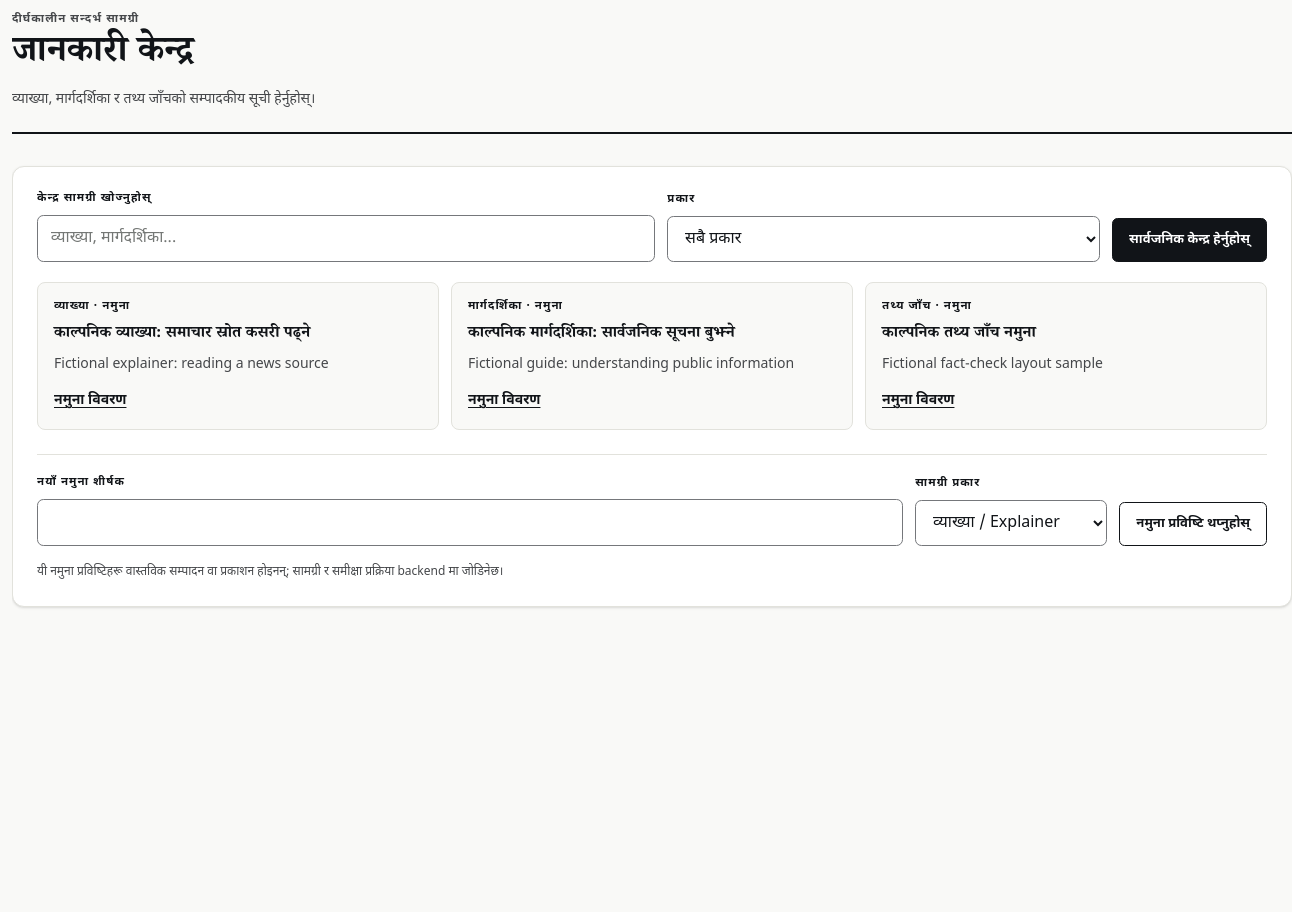
Test: newsroom admin modules › adds a hub item to the current screen only
Type "काल्पनिक थपिएको मार्गदर्शिका" into the field labelled "नयाँ नमुना शीर्षक" at (470, 523), box top-left (37, 499), bottom-right (903, 546)
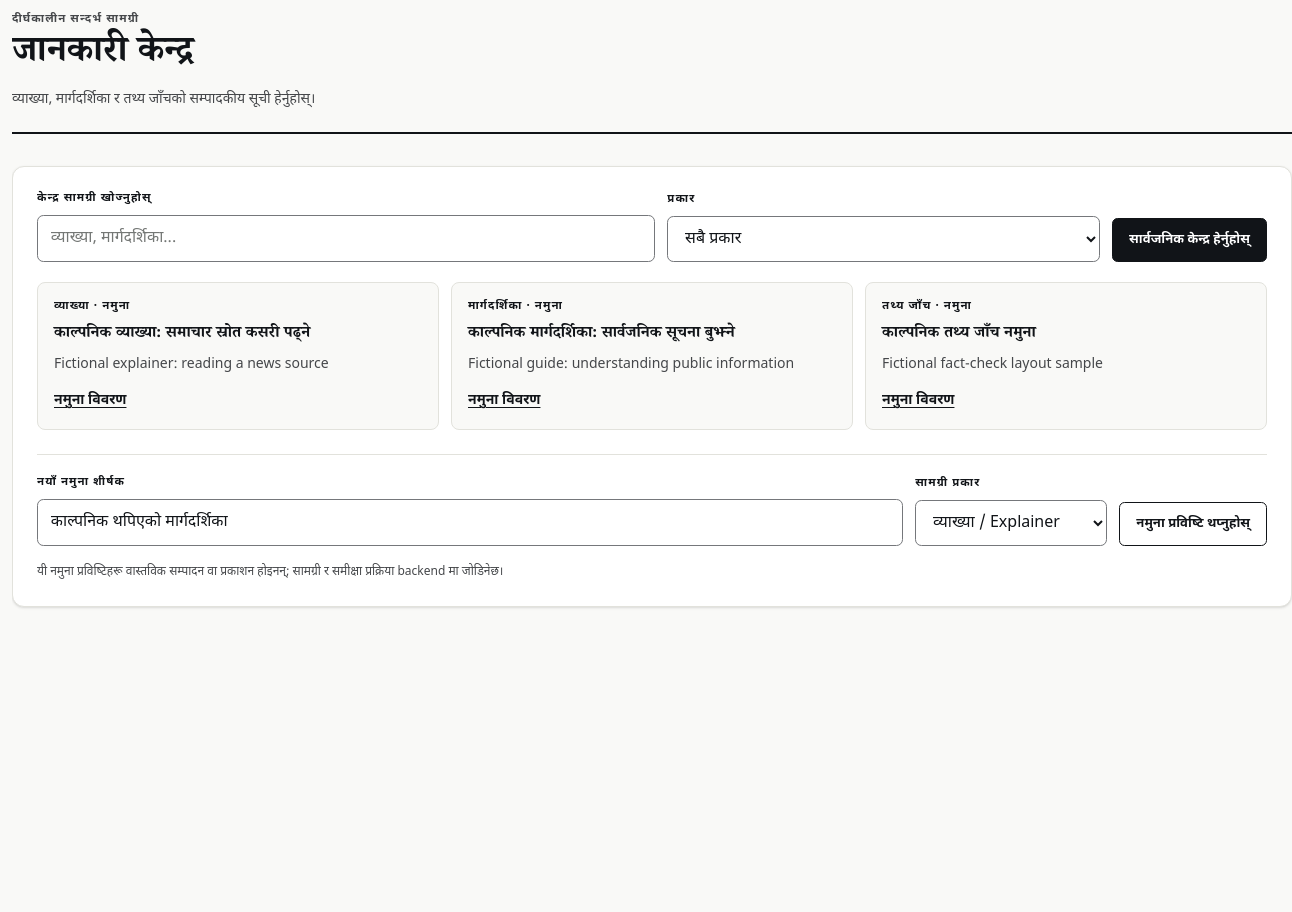
Click the button "नमुना प्रविष्टि थप्नुहोस्" at (1193, 524), box top-left (1119, 502), bottom-right (1267, 546)
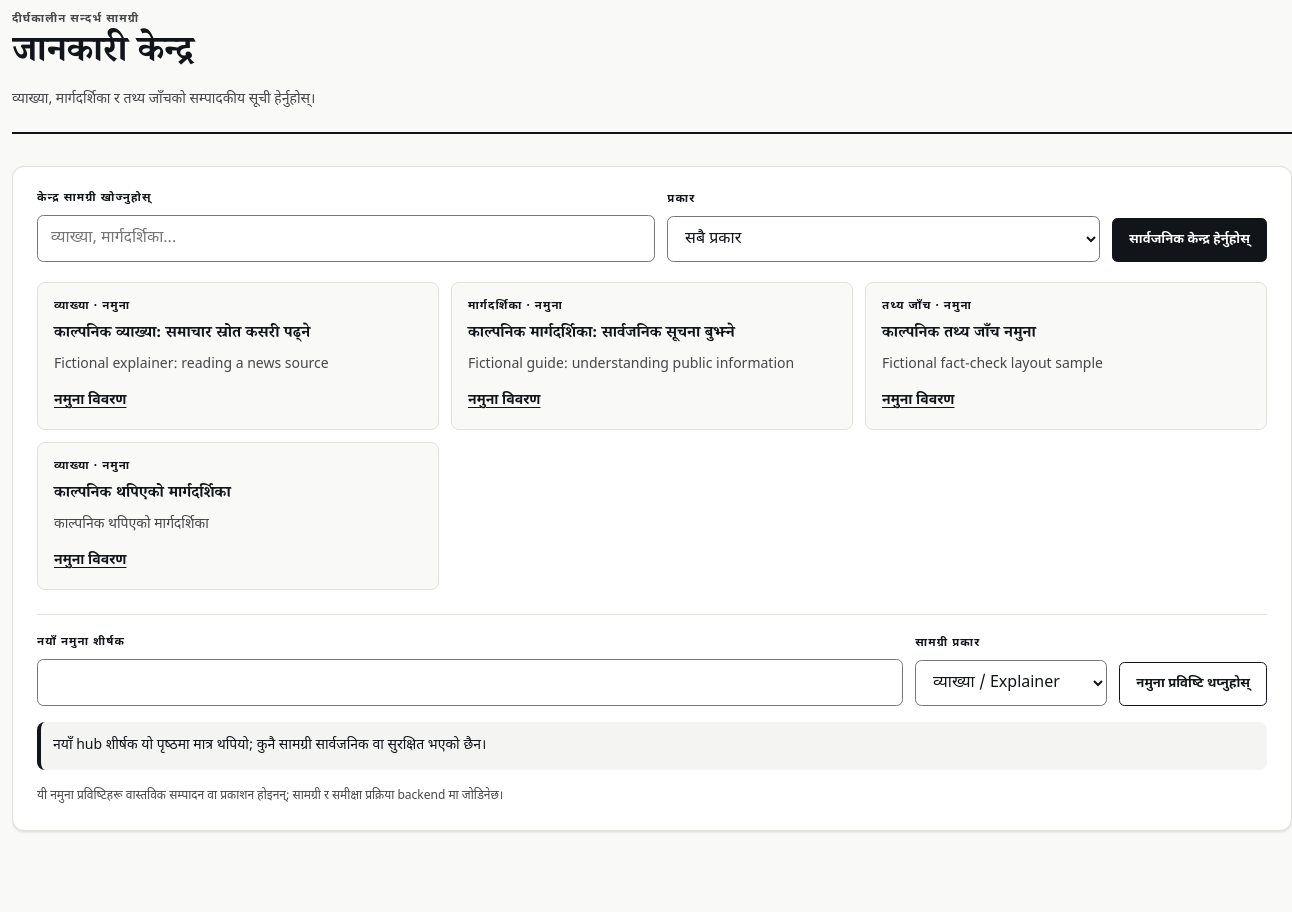
Expected: the heading "काल्पनिक थपिएको मार्गदर्शिका" is shown, top-left (54, 482), bottom-right (231, 507)
Expected: the message shows "कुनै सामग्री सार्वजनिक वा सुरक्षित भएको छैन", top-left (53, 736), bottom-right (486, 755)
